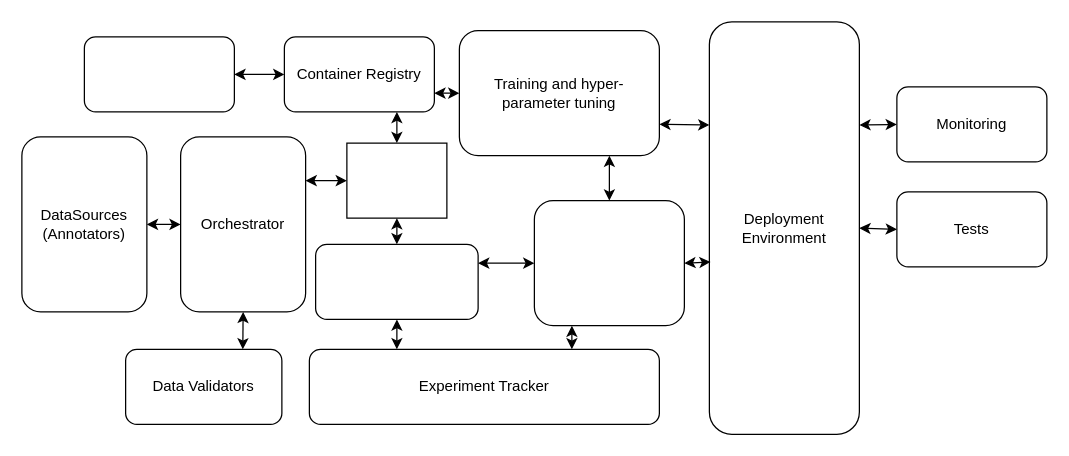
This 1069x456 diagram has some shape labels left out. The shapes that lost their labels are listed below. From the top down, each one's box as (x1, y1, x2, y2) in pixels, then its label:
(83, 36, 234, 112): Feature Store
(346, 142, 447, 218): Code Repo
(314, 243, 478, 319): Secrets Manager
(533, 199, 684, 326): Artifact Store (Model Store, Data Layer, Model Registry)
